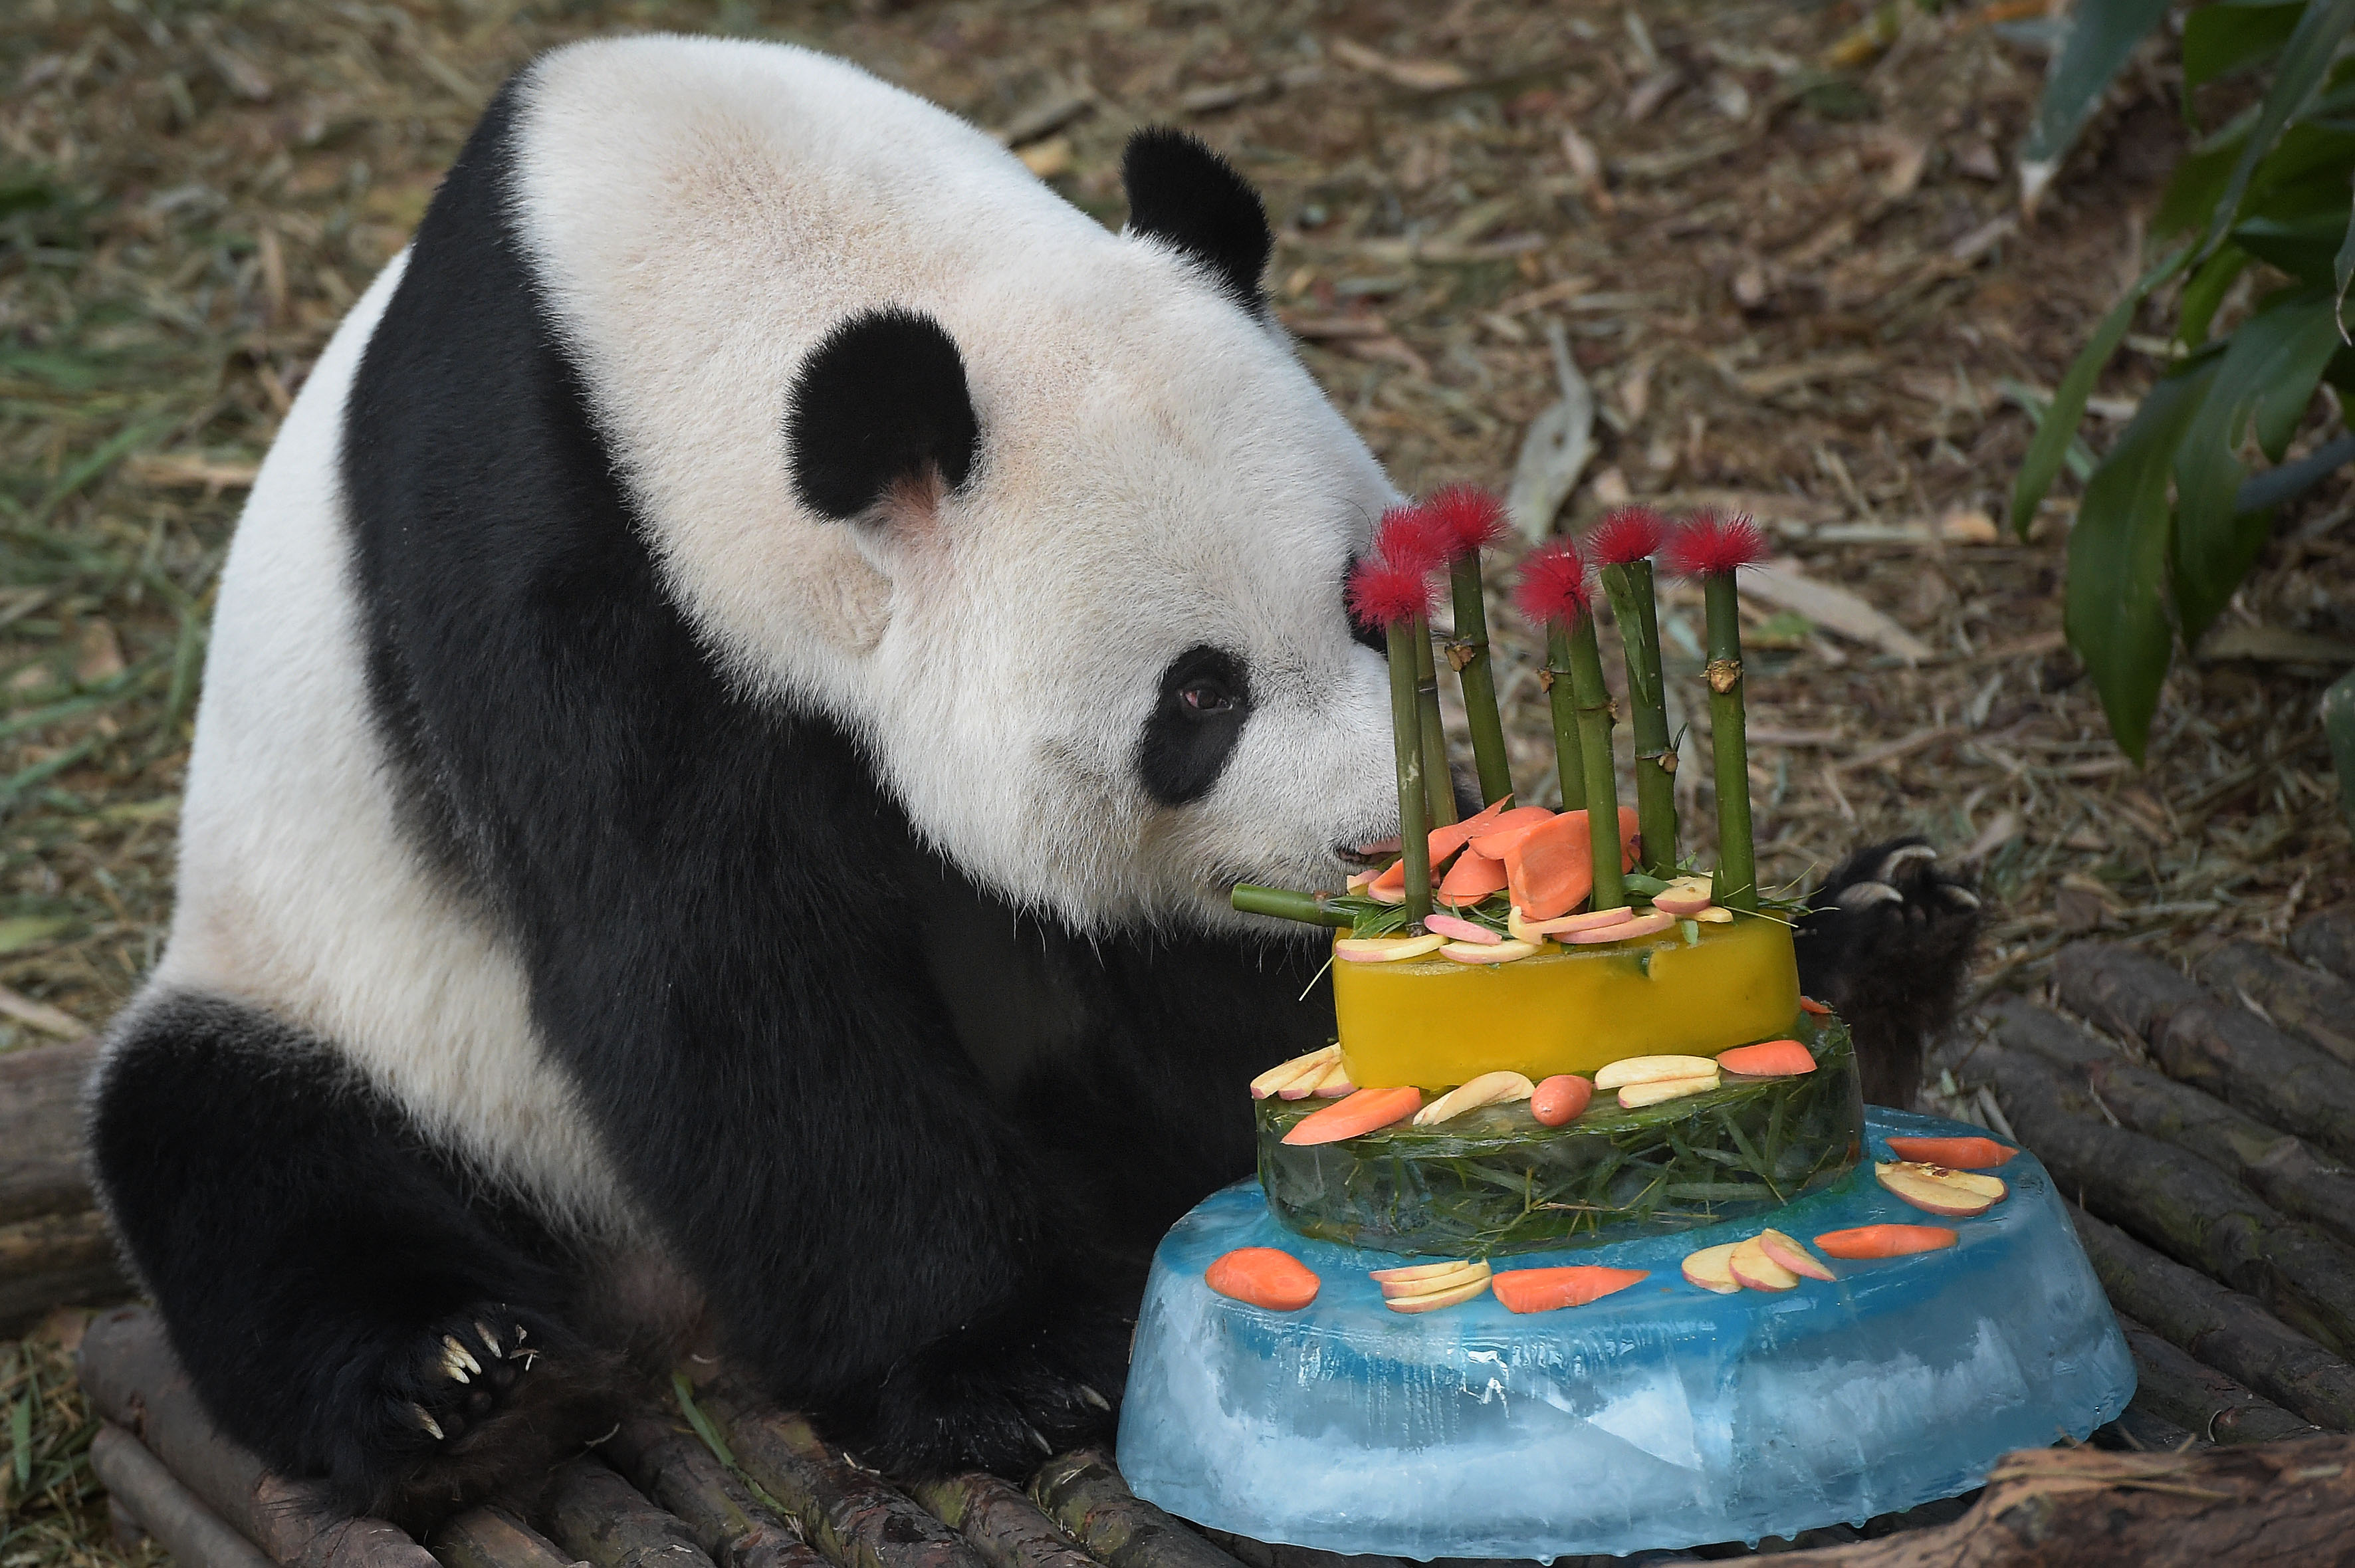panda: (110, 44, 1459, 1528)
